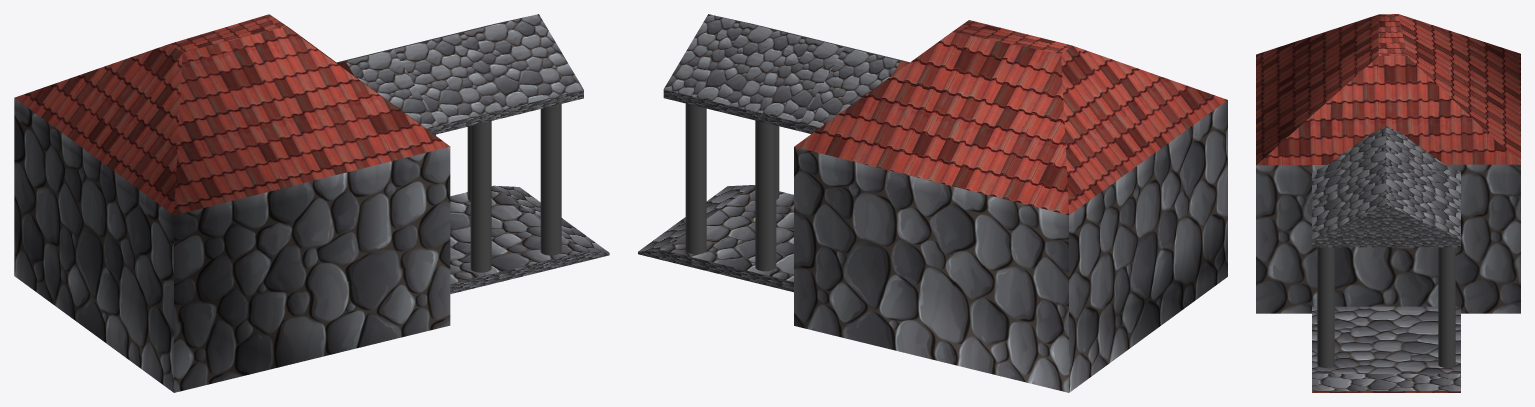
Rendered from ROYAL TUMBA3 1.fbx.
3 views of the same model, side by side, from view 1: azimuth 30°, elevation 25°; view 2: azimuth 150°, elevation 25°; view 3: azimuth 270°, elevation 25° (orthographic). The views are drawn at different scales.
Visible parts, largest first — view 1: Cube, Cilindro; view 2: Cube, Cilindro; view 3: Cube, Cilindro.
Boxes of the visible parts, x1,y1,x2,y2 form: Cube: [14, 14, 450, 392]; Cilindro: [336, 14, 609, 293]; Cube: [794, 20, 1227, 392]; Cilindro: [638, 14, 909, 292]; Cube: [1256, 14, 1520, 313]; Cilindro: [1312, 126, 1460, 392].
Bounding box in the file's own units: 1783 × 975 × 1051.
